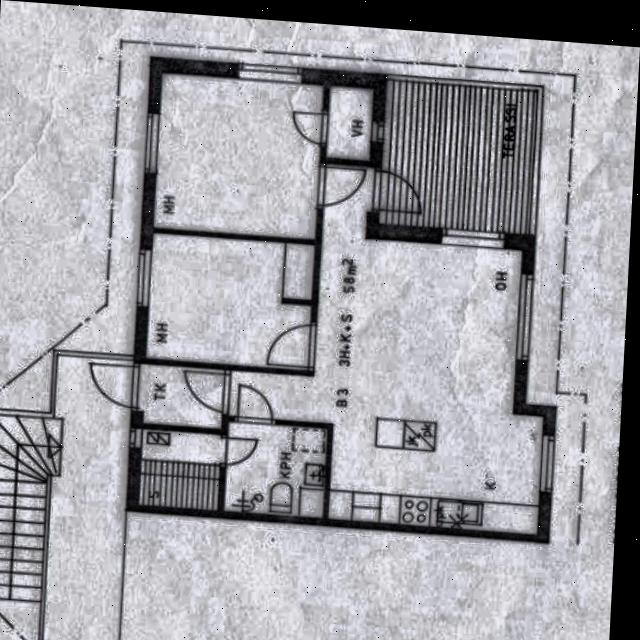room: (223, 160, 556, 534), (152, 74, 327, 239), (142, 233, 316, 371), (222, 422, 326, 518), (137, 430, 221, 511), (137, 364, 224, 428), (326, 85, 373, 160), (440, 289, 449, 293)
